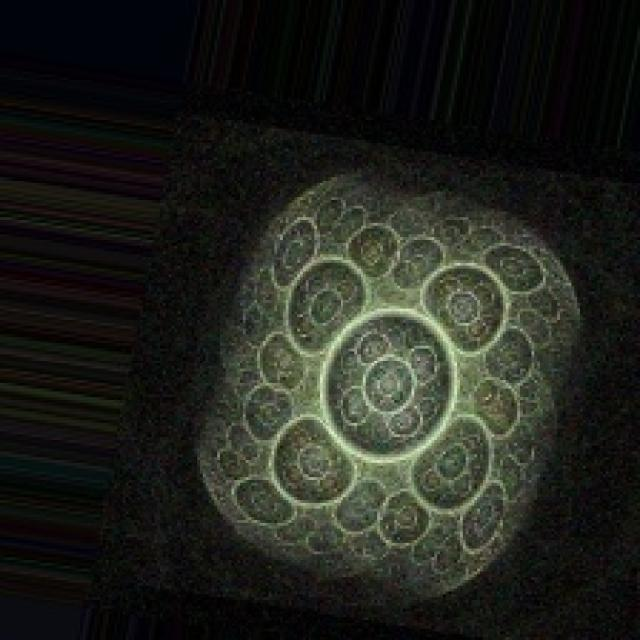Amoeba: (188, 163, 583, 608)
